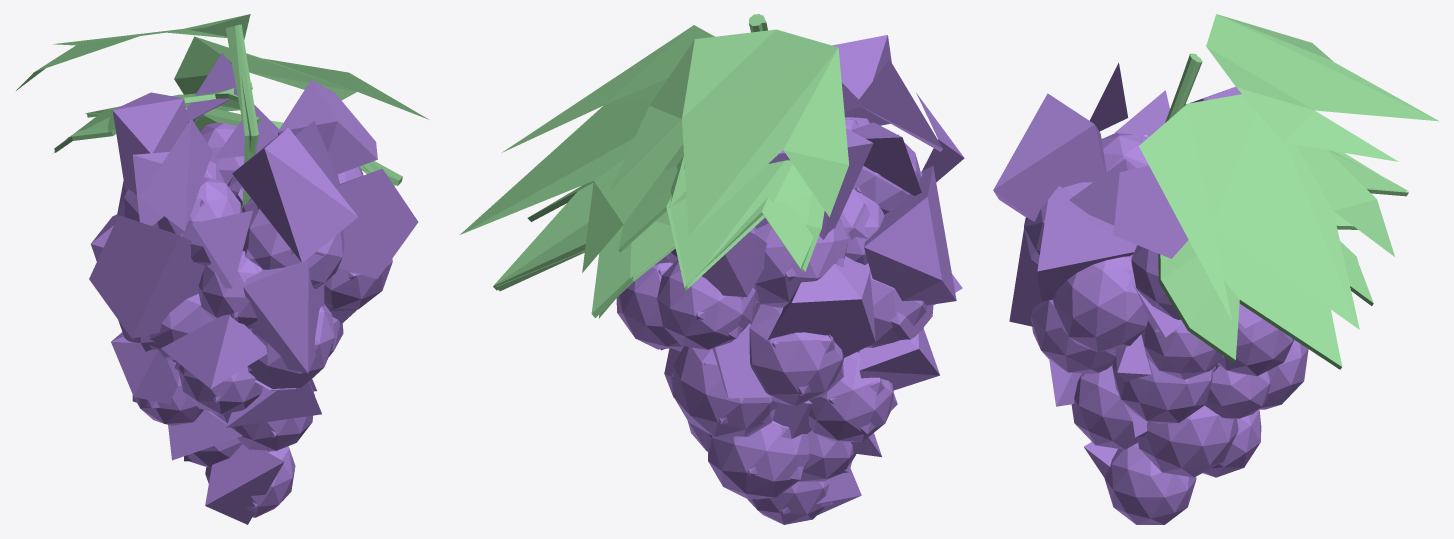
The model's file is imp-grapes.glb.
3 renders of one model, left to right at view 1: azimuth 30°, elevation 25°; view 2: azimuth 150°, elevation 25°; view 3: azimuth 270°, elevation 25°, orthographic. The views are drawn at different scales.
Parts seen in each view (by area): view 1: Kerbside_metres_ground_pivot (×3); view 2: Kerbside_metres_ground_pivot (×3); view 3: Kerbside_metres_ground_pivot (×3).
Part boxes in pixels (<box>): Kerbside_metres_ground_pivot (×3): <box>16,14,429,524</box>; Kerbside_metres_ground_pivot (×3): <box>460,14,964,524</box>; Kerbside_metres_ground_pivot (×3): <box>993,14,1439,524</box>.
Bounding box in the file's own units: 0.1806 × 0.22 × 0.1888.
